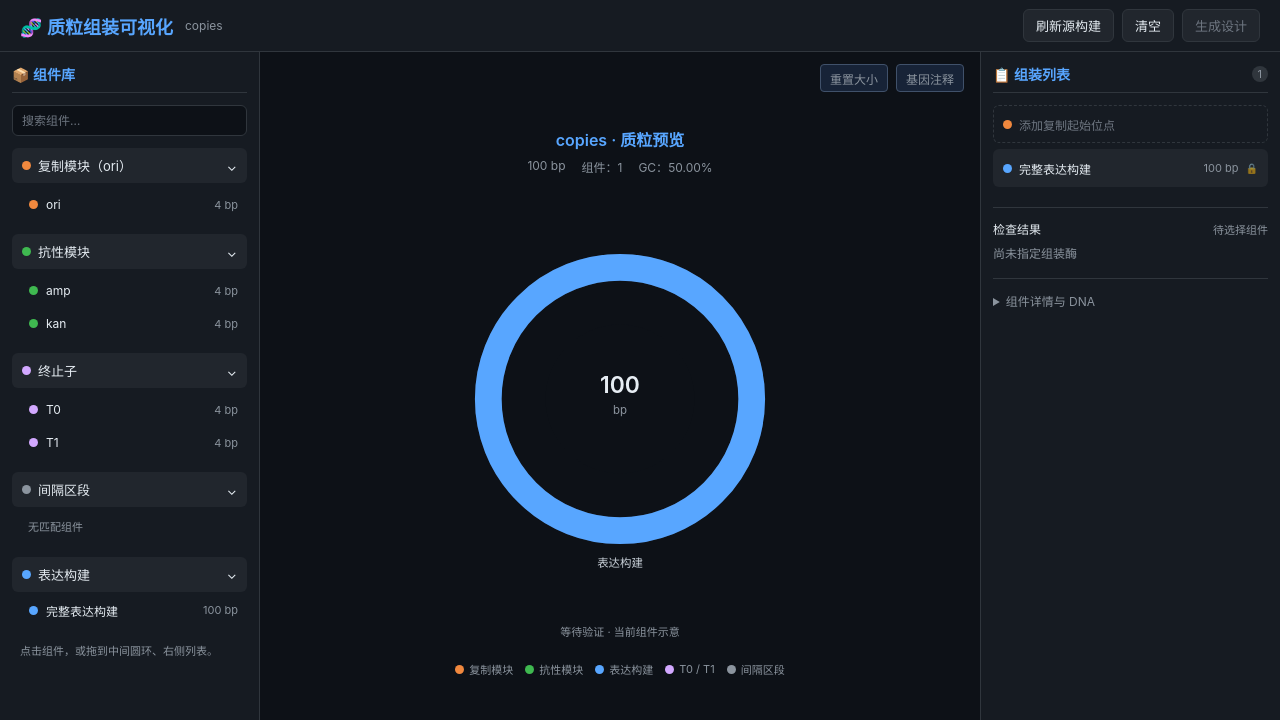
Test: keeps different markers and all copies after a reload, with one replication module
What coordinates should you click on to do the following:
click the button with aria-label "选择 amp"
I would click on:
 (134, 290)
Its box is [20,275,247,306].
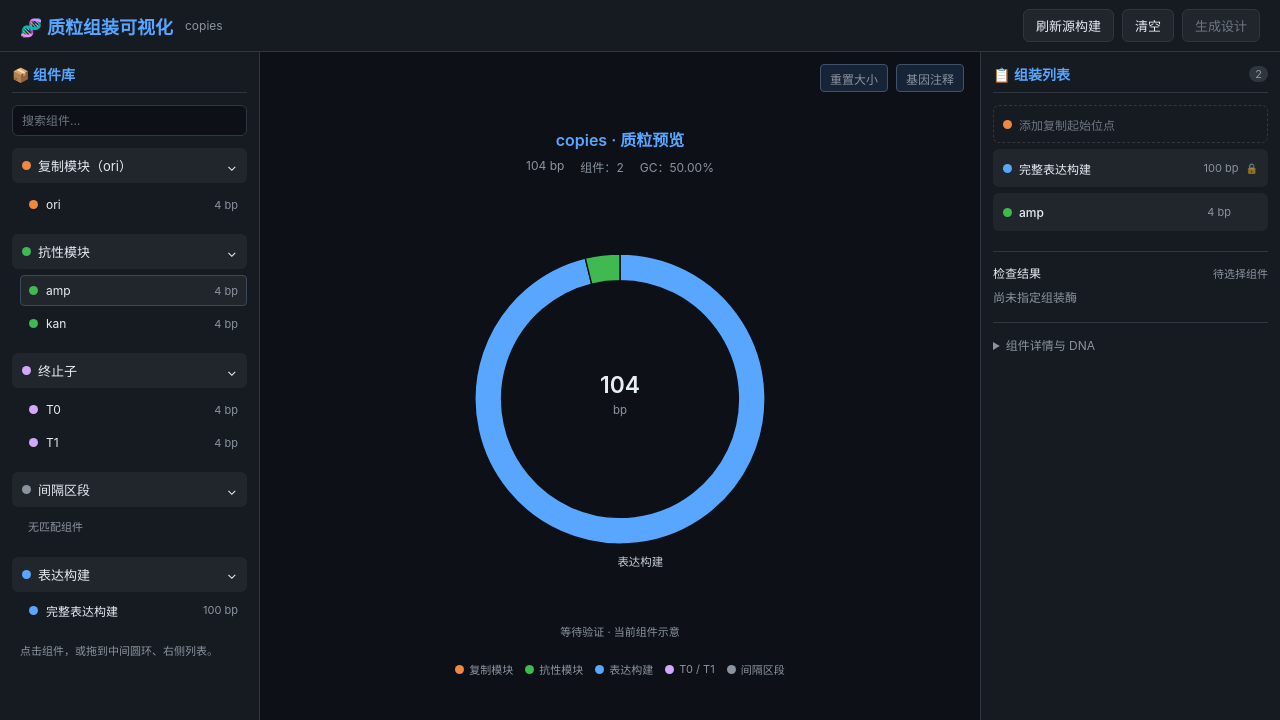
What coordinates should you click on to do the following:
click the button with aria-label "选择 amp"
I would click on:
 (134, 290)
Its box is [20,275,247,306].
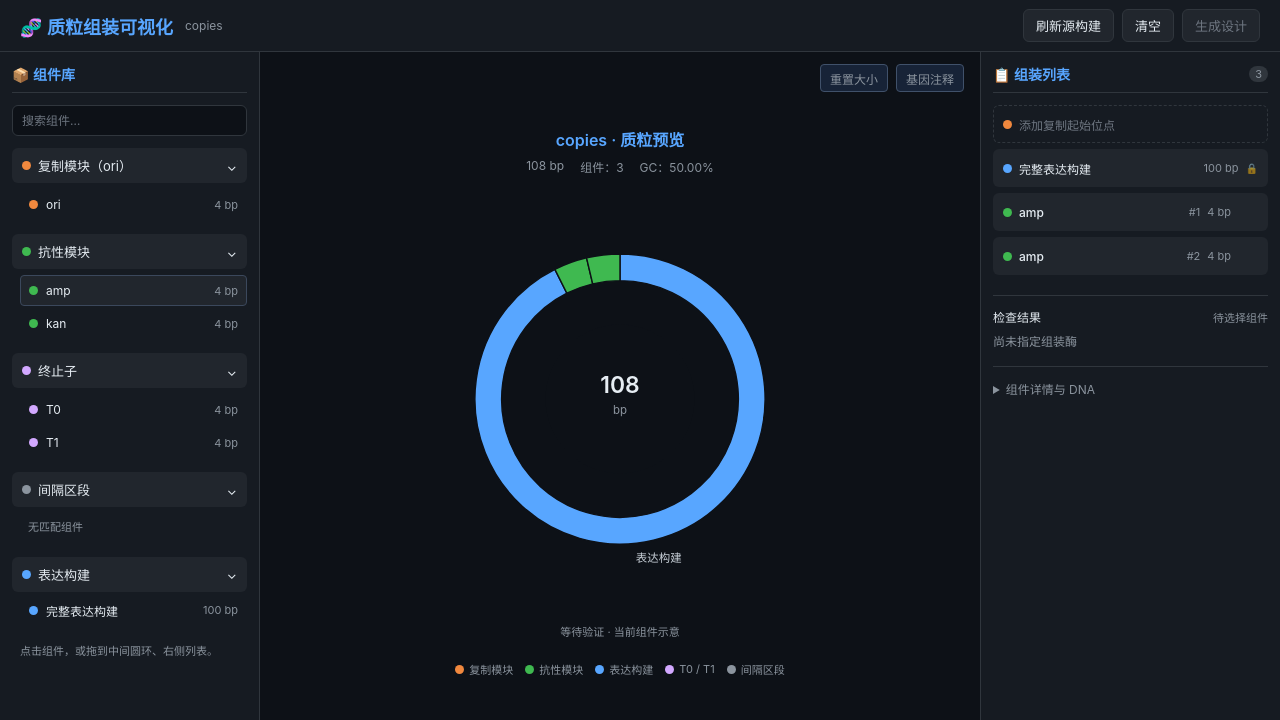
What coordinates should you click on to do the following:
click the button with aria-label "选择 kan"
I would click on:
 (134, 324)
Its box is [20,308,247,339].
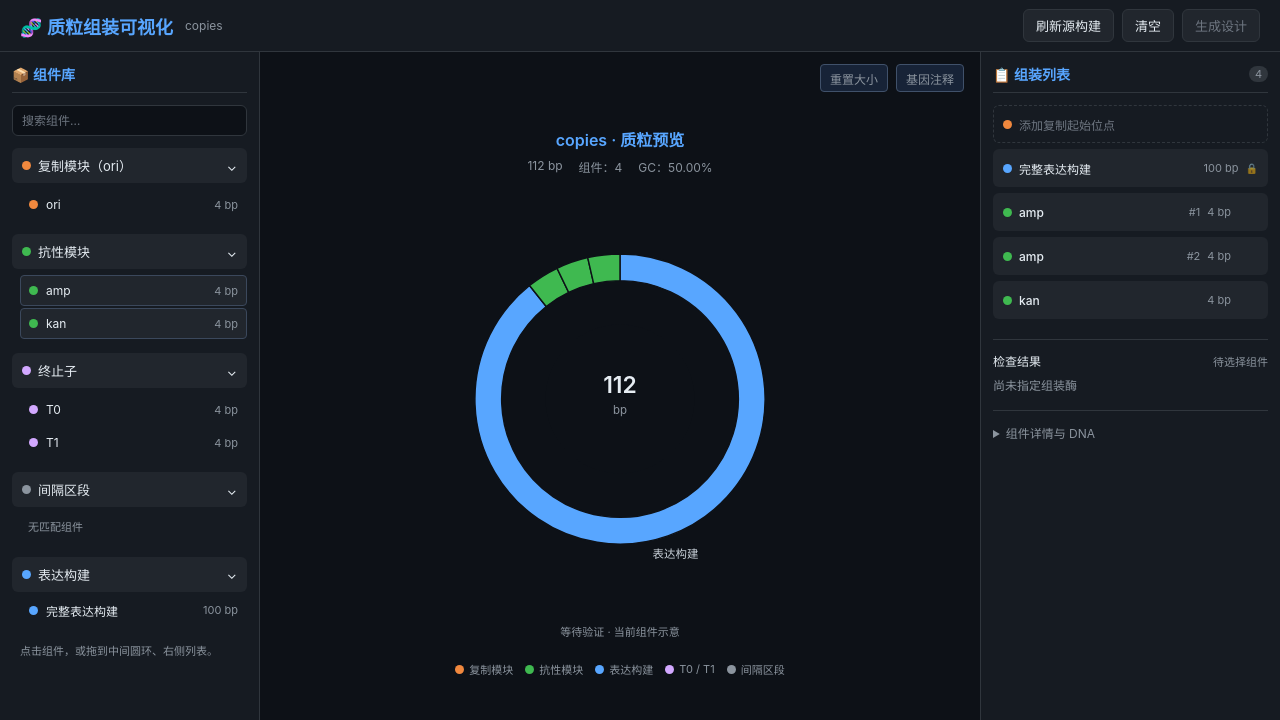
What coordinates should you click on to do the following:
click the button with aria-label "选择 ori"
I would click on:
 (134, 204)
Its box is [20,189,247,220].
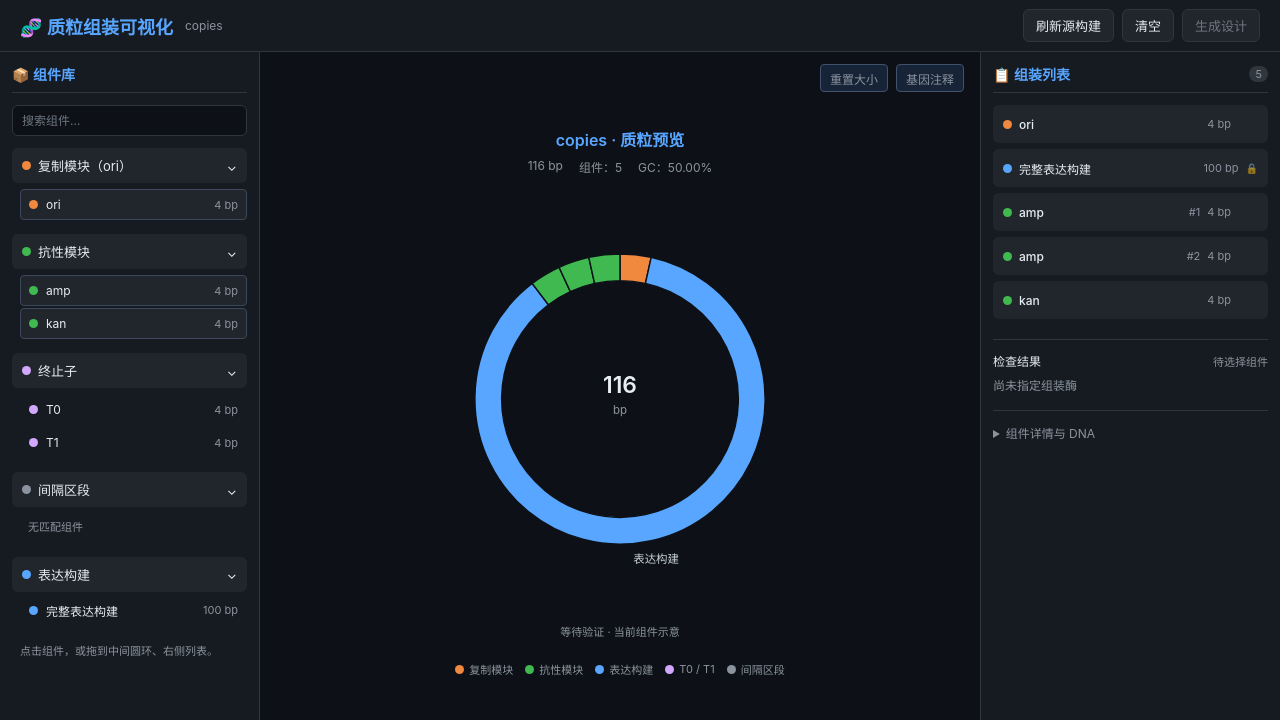
What coordinates should you click on to do the following:
click the button with aria-label "选择 ori"
I would click on:
 (134, 204)
Its box is [20,189,247,220].
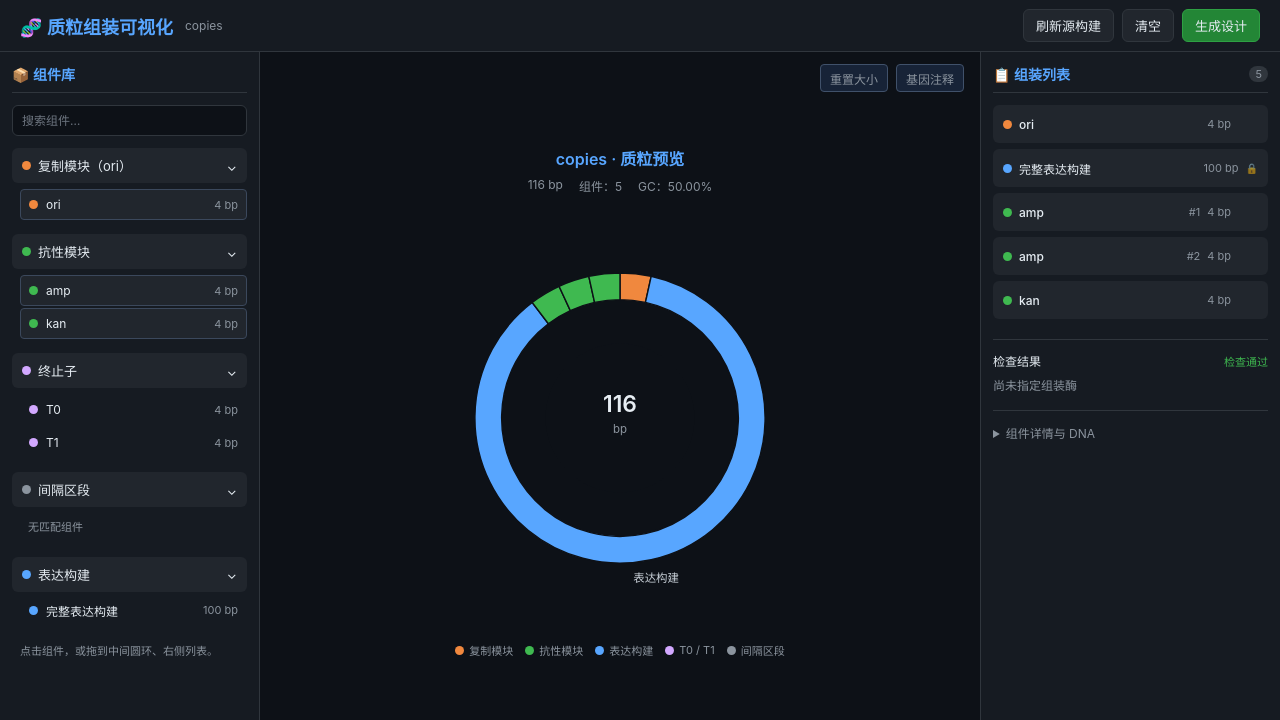
Expected: the button "生成设计" is enabled, [1182,9,1260,42]
